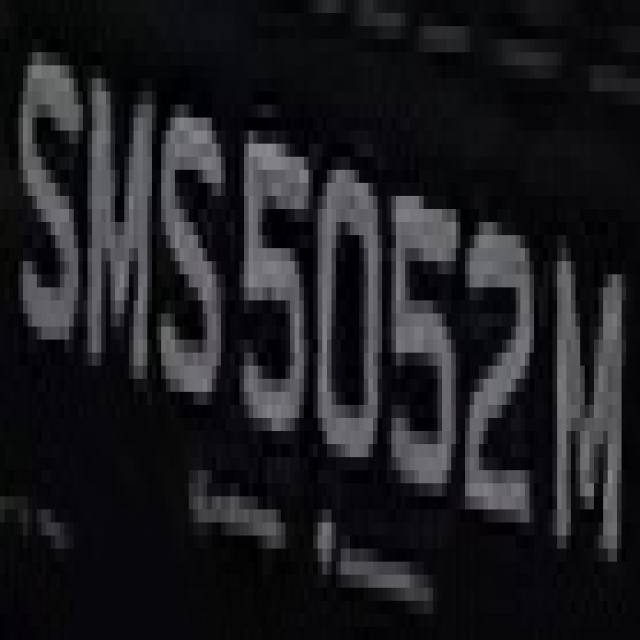0: (295, 105, 391, 522)
2: (470, 222, 543, 575)
5: (387, 130, 456, 536), (244, 105, 313, 470)
M: (544, 196, 636, 588), (74, 26, 156, 457)
S: (147, 65, 221, 405), (14, 26, 78, 366)
